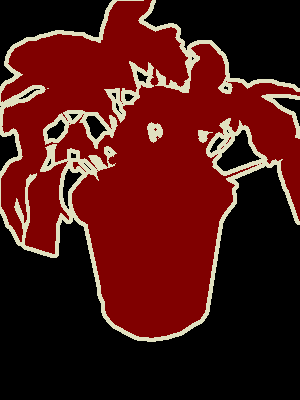pottedplant: (1, 1, 299, 339)
